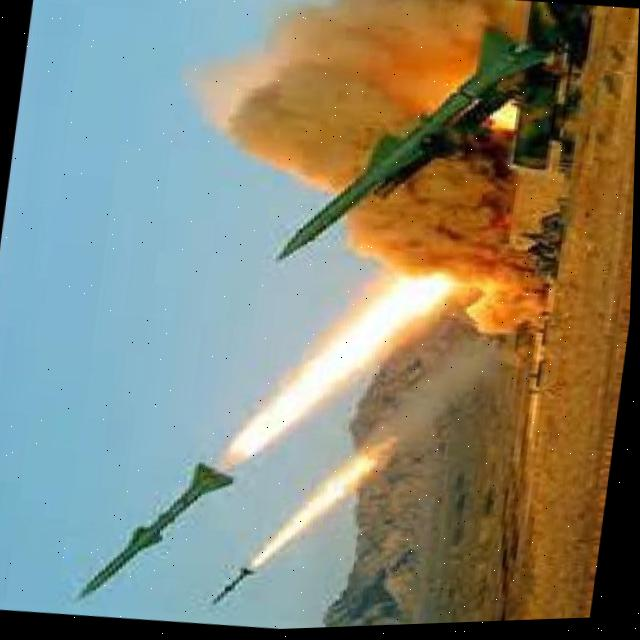missile: (261, 3, 567, 291), (45, 379, 249, 622), (205, 500, 276, 625)
